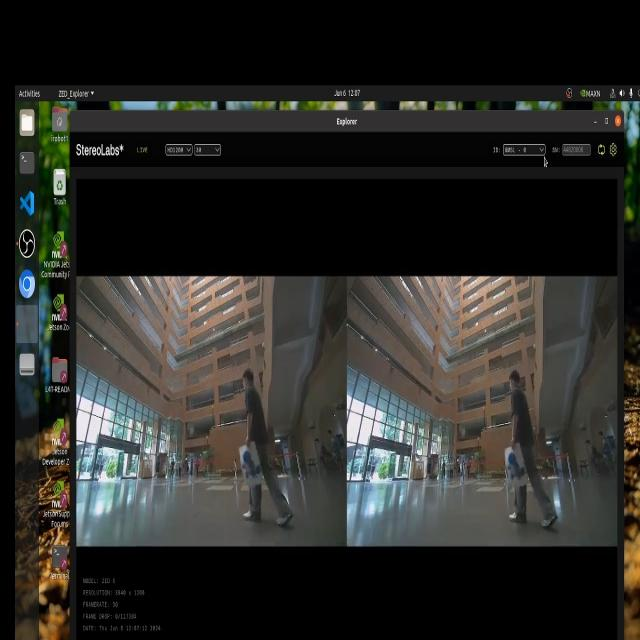blue: (237, 448, 262, 486), (505, 451, 526, 490)
